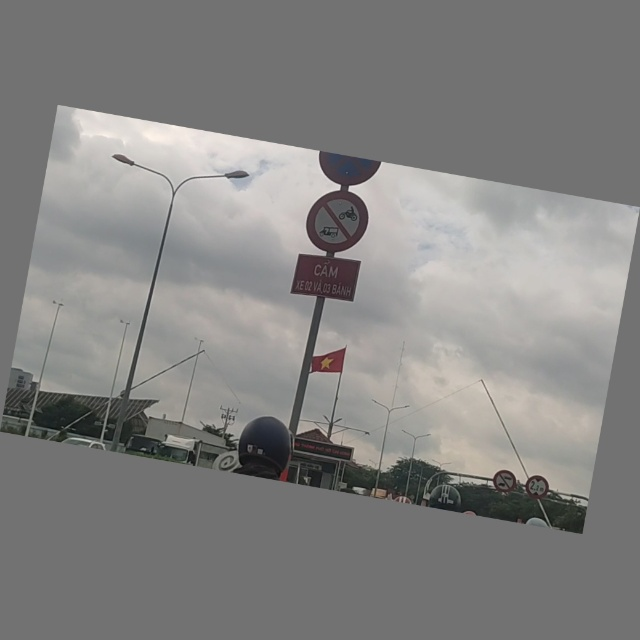P.107: (491, 468, 519, 495)
P.111: (301, 187, 374, 259)
P.117*: (523, 475, 551, 502)
P.130: (312, 152, 382, 191)
